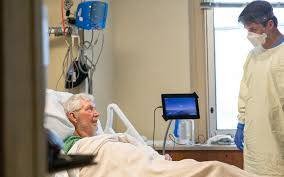Caution: (64, 1, 284, 175)
